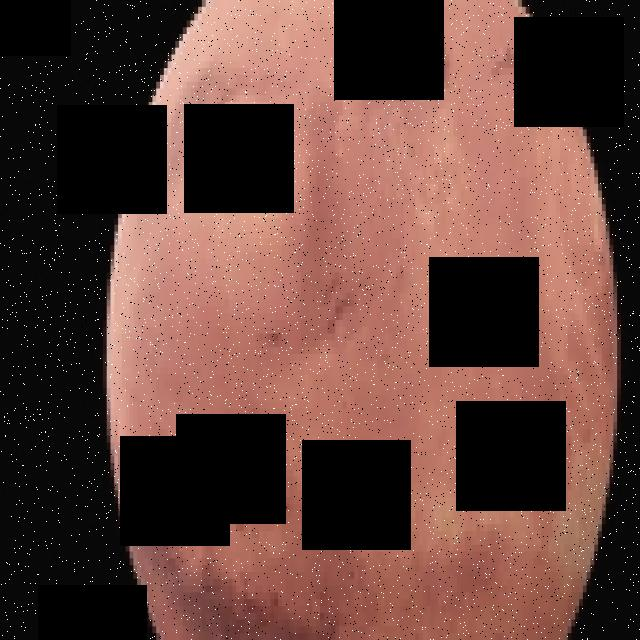Mars: (99, 0, 617, 640)
